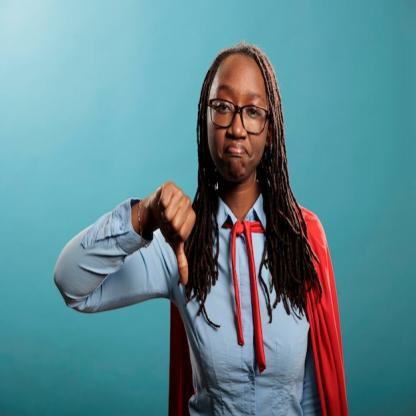thumb_down: (150, 179, 198, 288)
